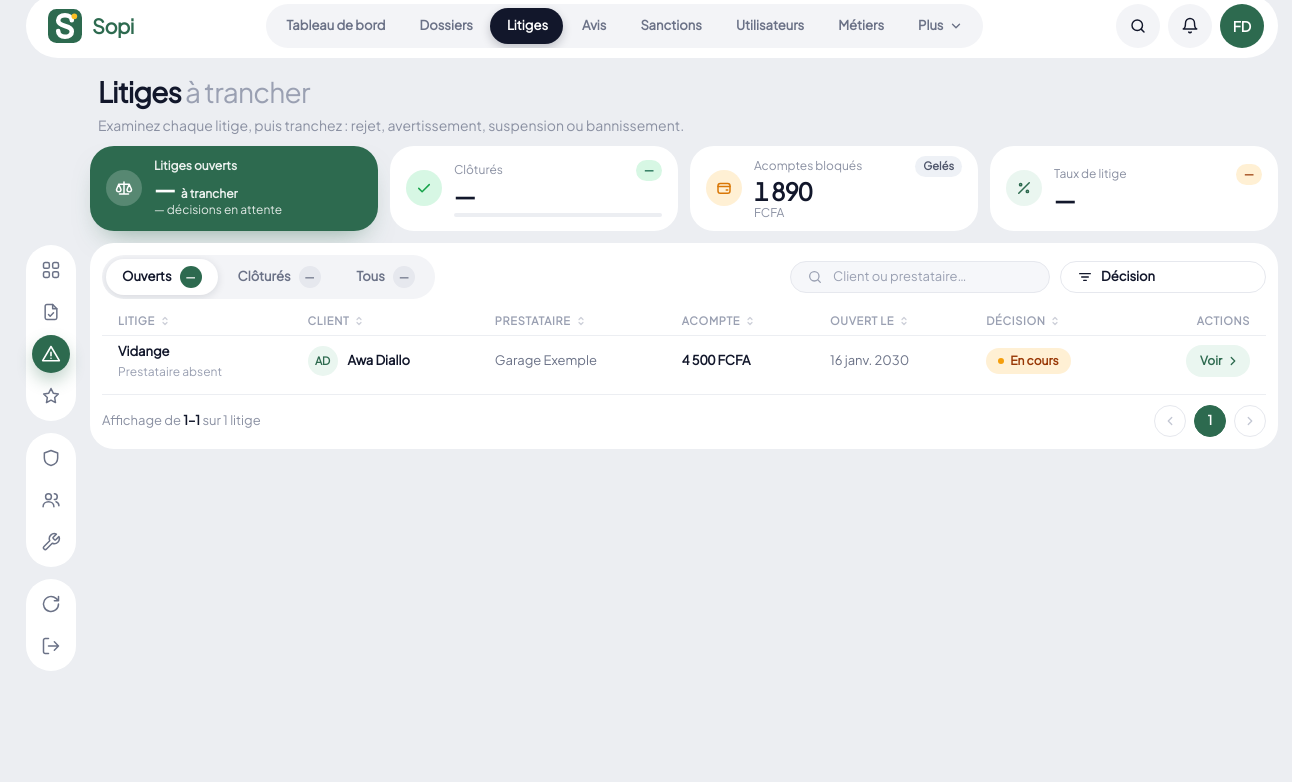
it: litiges › liste par défaut les litiges ouverts et garde le filtre dans l’adresse
Click the tab "Clôturés —". click: (279, 276)
box: [222,258,336,294]
(page scrolled)
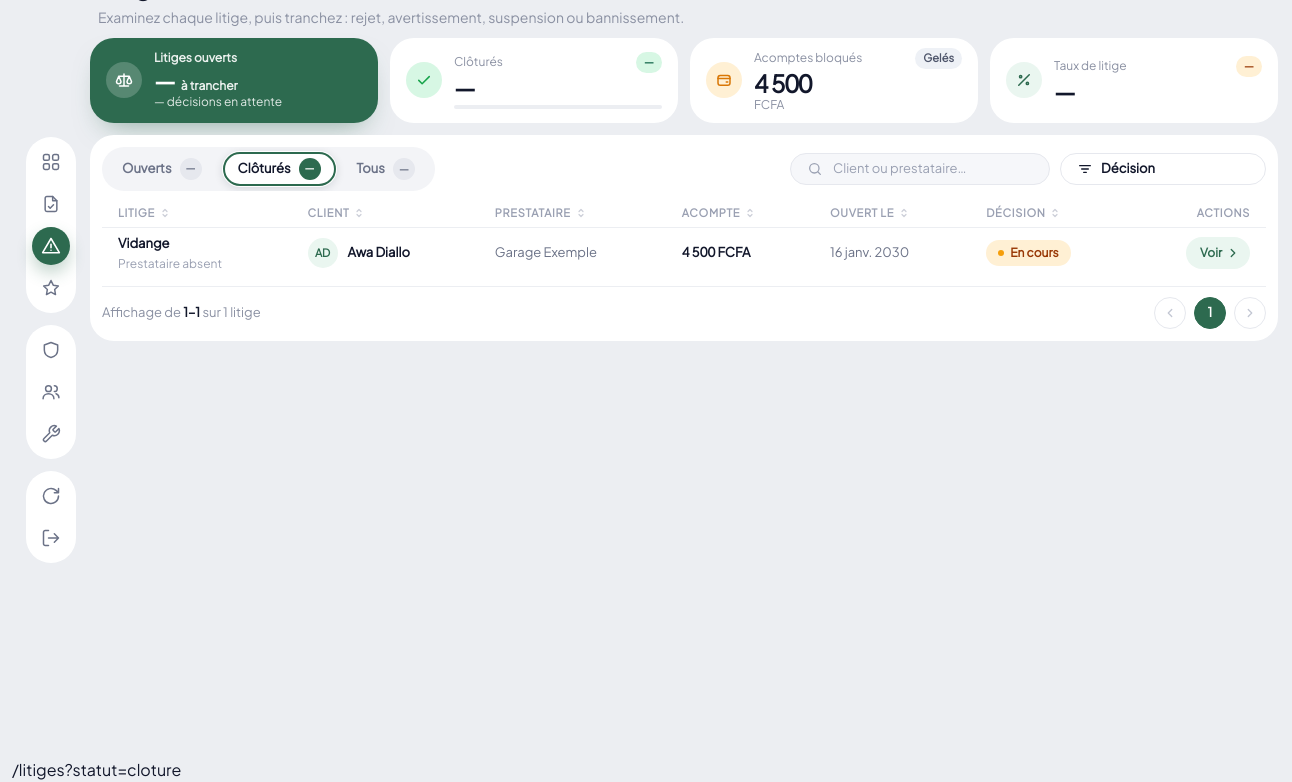
Expected: the text with test id "lieu" reads "/litiges?statut=cloture", [12,759,181,780]
